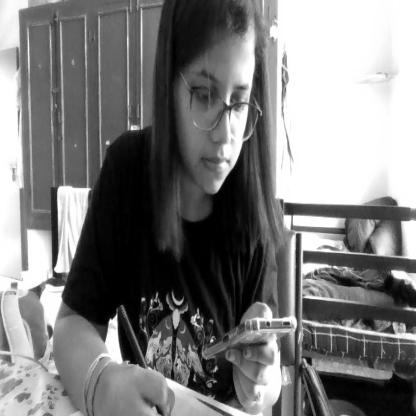Distracted: (167, 0, 264, 200)
